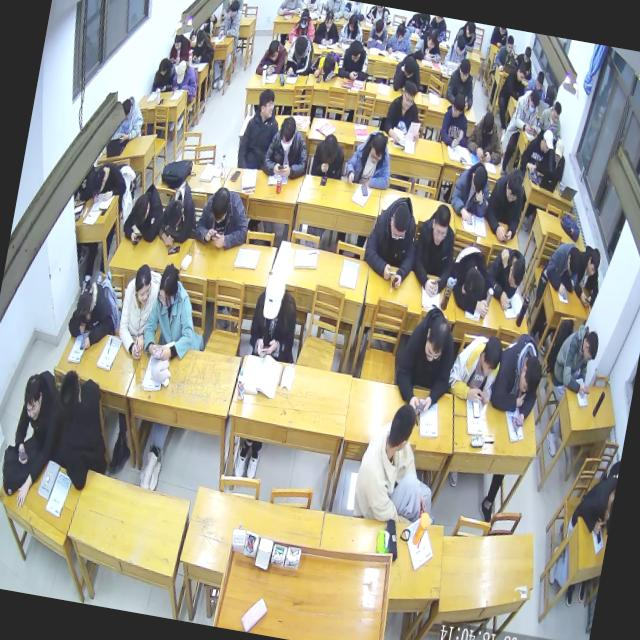bow: (488, 326, 550, 432), (442, 238, 500, 321), (63, 277, 122, 355), (152, 176, 204, 254), (119, 178, 169, 252), (482, 241, 529, 312), (538, 238, 584, 298), (87, 156, 131, 207), (388, 49, 425, 98), (254, 33, 288, 78), (412, 22, 446, 62), (308, 48, 342, 82)
down: (419, 312, 454, 368), (258, 268, 290, 323), (153, 260, 183, 312), (515, 352, 545, 400), (426, 199, 454, 248), (476, 334, 504, 382), (206, 184, 233, 229), (386, 200, 412, 245), (275, 112, 300, 154), (70, 290, 96, 330), (501, 166, 526, 207), (365, 128, 390, 166), (129, 191, 153, 229), (504, 254, 527, 292), (580, 328, 602, 367), (318, 130, 341, 166), (466, 162, 489, 198), (162, 196, 184, 233), (563, 244, 584, 280), (398, 79, 419, 113), (478, 110, 498, 144), (88, 163, 108, 196), (584, 244, 603, 278), (290, 32, 310, 62), (538, 127, 556, 157), (524, 86, 542, 115), (399, 55, 418, 82), (550, 136, 567, 166), (320, 52, 338, 80), (346, 38, 364, 66), (455, 57, 473, 85), (117, 96, 134, 125), (265, 35, 281, 62), (173, 58, 188, 86), (424, 27, 439, 52), (548, 100, 562, 125), (532, 68, 546, 93), (298, 7, 312, 31), (453, 34, 467, 58), (514, 61, 528, 85), (392, 21, 407, 43), (156, 54, 170, 76), (346, 10, 360, 32), (372, 17, 386, 39), (322, 8, 336, 29), (502, 34, 516, 55), (171, 29, 184, 50), (521, 44, 533, 65), (194, 28, 206, 48)
lookup: (17, 371, 48, 427)
sit: (348, 394, 447, 528), (0, 361, 65, 514), (40, 369, 117, 496), (387, 299, 462, 423), (138, 259, 205, 367), (358, 188, 426, 290), (244, 264, 306, 364), (406, 196, 464, 300), (112, 258, 164, 362), (190, 178, 256, 254), (232, 81, 286, 172), (444, 327, 504, 408), (564, 461, 618, 544), (548, 320, 602, 401), (479, 163, 532, 245), (260, 111, 316, 184), (341, 126, 397, 197), (444, 154, 496, 228), (380, 76, 430, 146), (462, 108, 510, 166), (569, 242, 606, 310), (436, 90, 474, 152), (517, 122, 558, 177), (443, 53, 481, 112), (309, 128, 350, 182), (508, 83, 545, 137), (112, 94, 148, 146), (336, 37, 372, 83), (282, 30, 316, 78), (534, 96, 566, 142), (498, 58, 528, 105), (168, 58, 200, 102), (286, 7, 319, 49), (384, 18, 416, 58), (312, 9, 344, 48), (544, 136, 570, 183), (442, 30, 472, 70), (492, 31, 519, 75), (150, 54, 178, 96), (337, 9, 367, 48), (215, 0, 244, 38), (188, 26, 216, 64), (167, 28, 193, 66), (512, 42, 536, 81), (364, 15, 390, 50)
